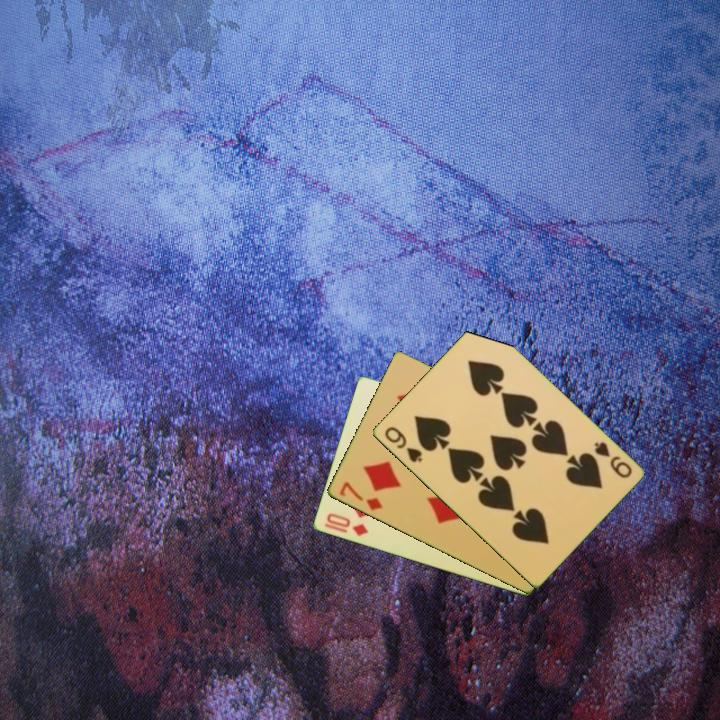10d: (320, 510, 371, 540)
7d: (335, 478, 385, 514)
9s: (590, 438, 634, 481), (381, 423, 425, 465)
